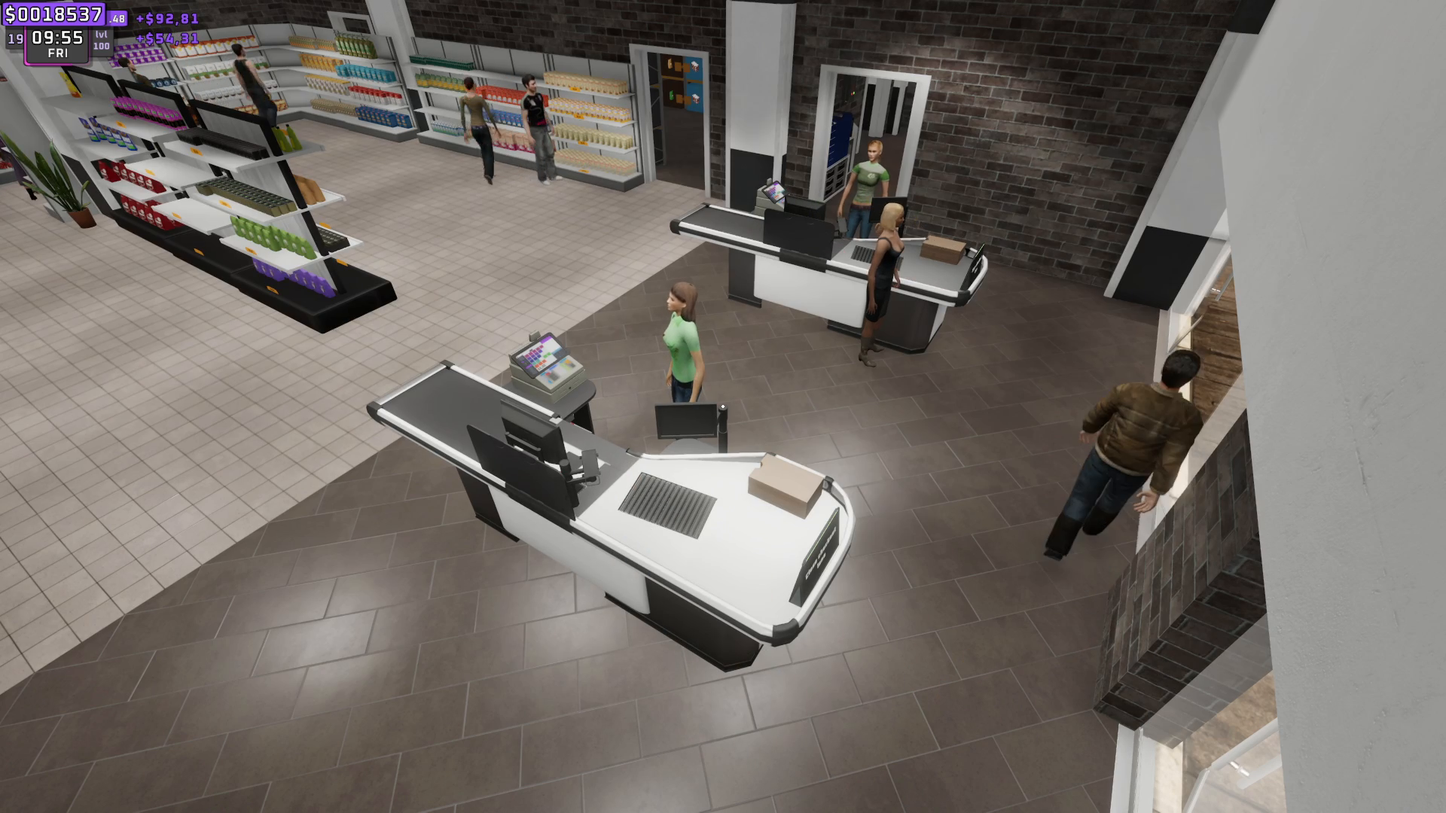Client: (857, 205, 909, 367)
Employee: (660, 278, 702, 388), (844, 145, 889, 233)
